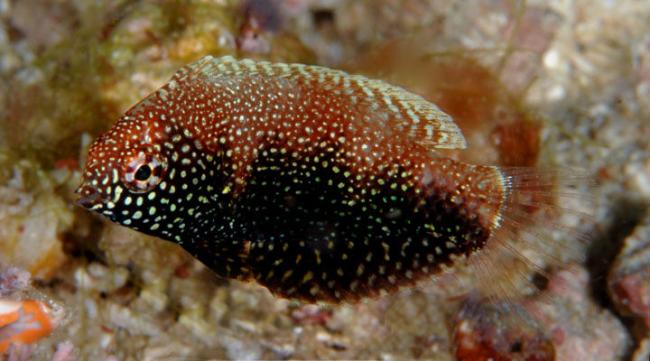fish: (74, 56, 598, 328)
